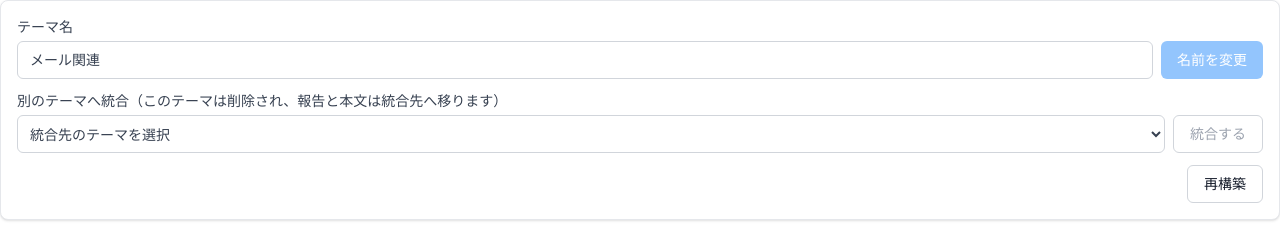
Test: RecapThemeEditCard › clears the merge target when the placeholder is chosen again
Select "認証" in the dropdown at [591, 134], box [17,115,1165,153]
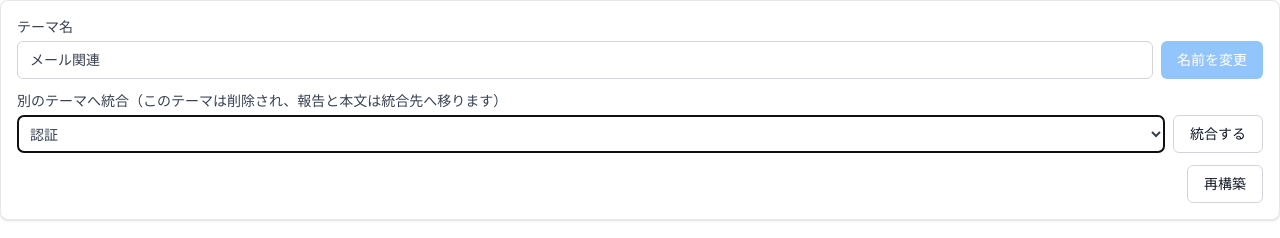
Select "統合先のテーマを選択" in the dropdown at [591, 134], box [17,115,1165,153]
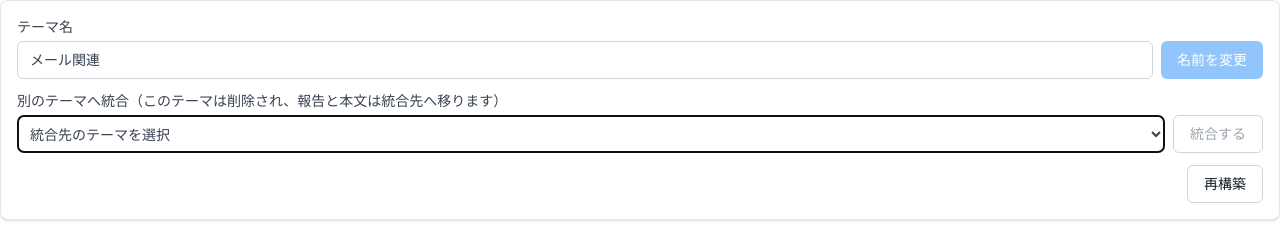
Expected: the button "統合する" is disabled, [1173,115,1263,153]
